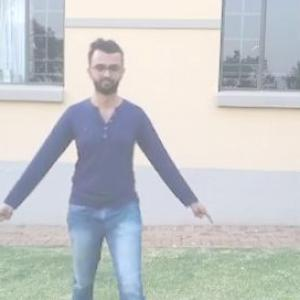land: (18, 61, 186, 299)
